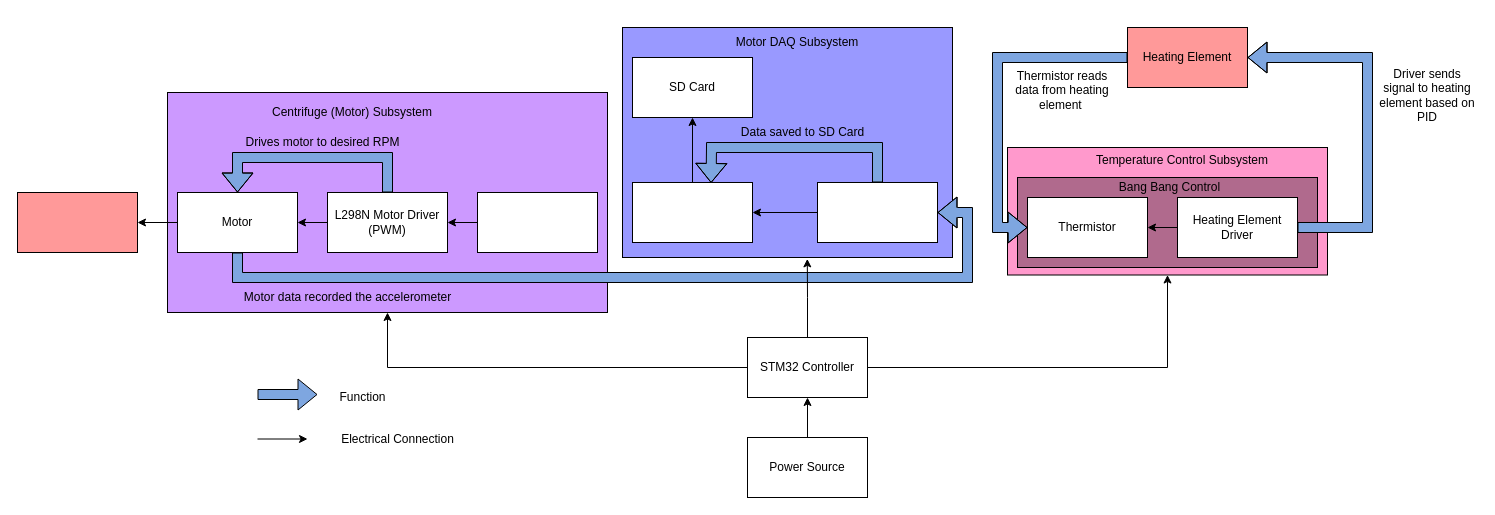
The diagram is 1495 pixels wide and 515 high, and some of its shapes have lost their labels. The centre of each missing label's shape, as x and y in pixels:
"10K Potentiometer" goes at (537,222).
"Centrifuge" goes at (77,222).
"MPU6050 (GY21) Accelerometer (I2C)" goes at (877,212).
"SD Module (SPI)" goes at (692,212).
